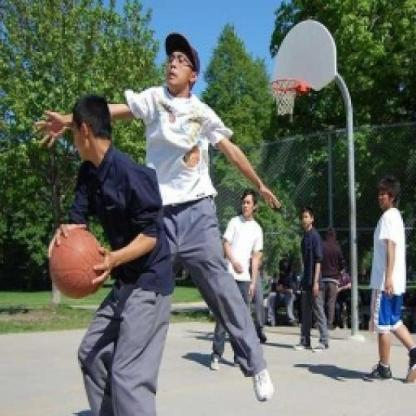basketball: (46, 218, 111, 304)
